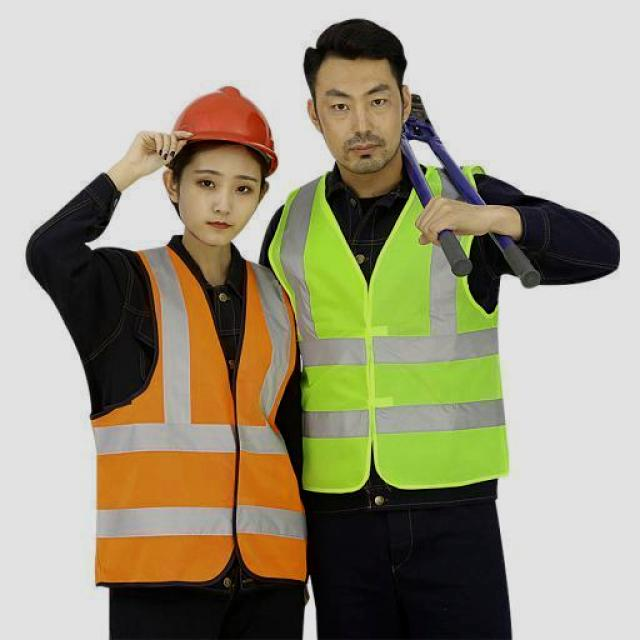face_nomask: (321, 84, 397, 168), (190, 158, 261, 236)
hand_noglove: (111, 120, 200, 185), (409, 189, 482, 249)
head_helmet: (156, 83, 286, 166)
head_nohelmet: (297, 14, 411, 77)
person: (250, 15, 620, 640), (18, 61, 318, 640)
vest: (82, 230, 310, 582), (274, 167, 514, 488)
